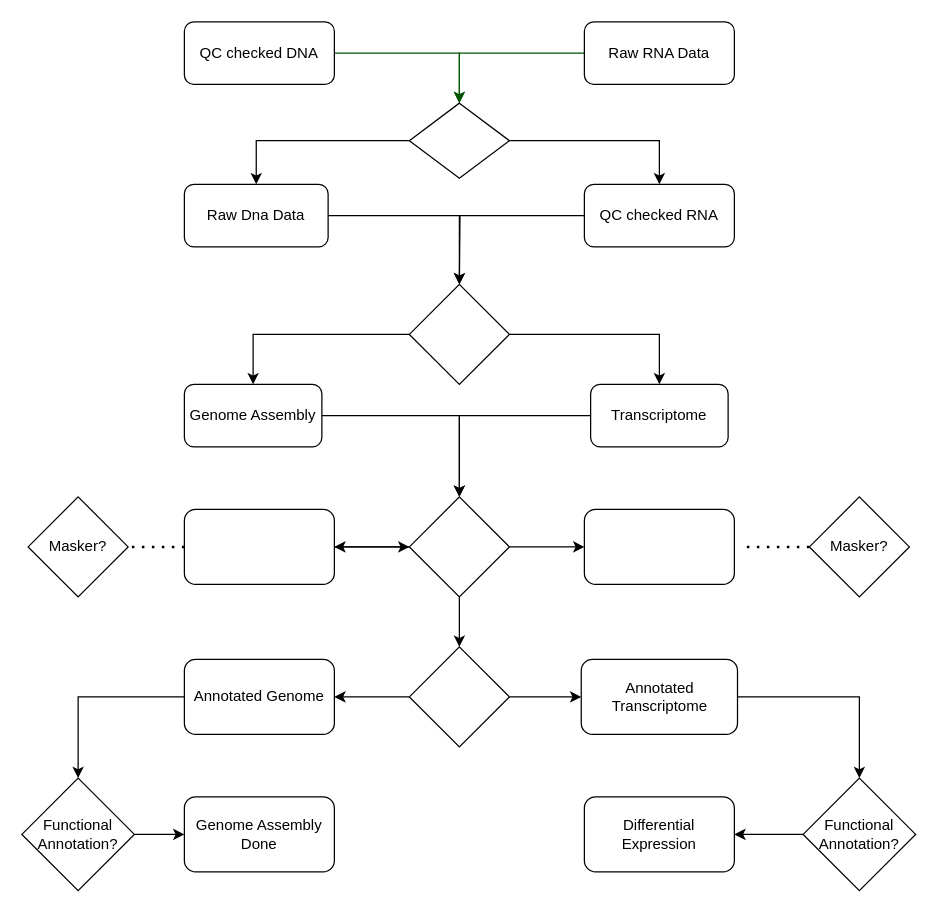
The diagram is 938 pixels wide and 913 high, and some of its shapes have lost their labels. The centre of each missing label's shape, as x and y in pixels:
"Annotation" belongs at (x=458, y=696).
"Evaluation" belongs at (x=458, y=546).
"Quality Control" belongs at (x=458, y=140).
"Refinement of the assembly" belongs at (x=258, y=546).
"Refinement of the Transcriptome assembly" belongs at (x=658, y=546).
"Trimming" belongs at (x=458, y=333).
